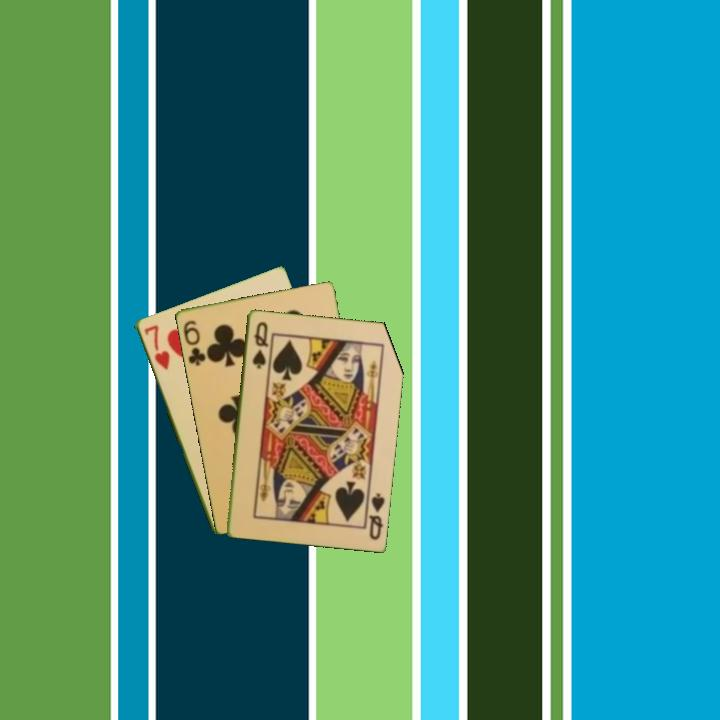6c: (179, 317, 208, 369)
7h: (140, 321, 172, 372)
Qs: (361, 488, 387, 542), (248, 318, 270, 371)
